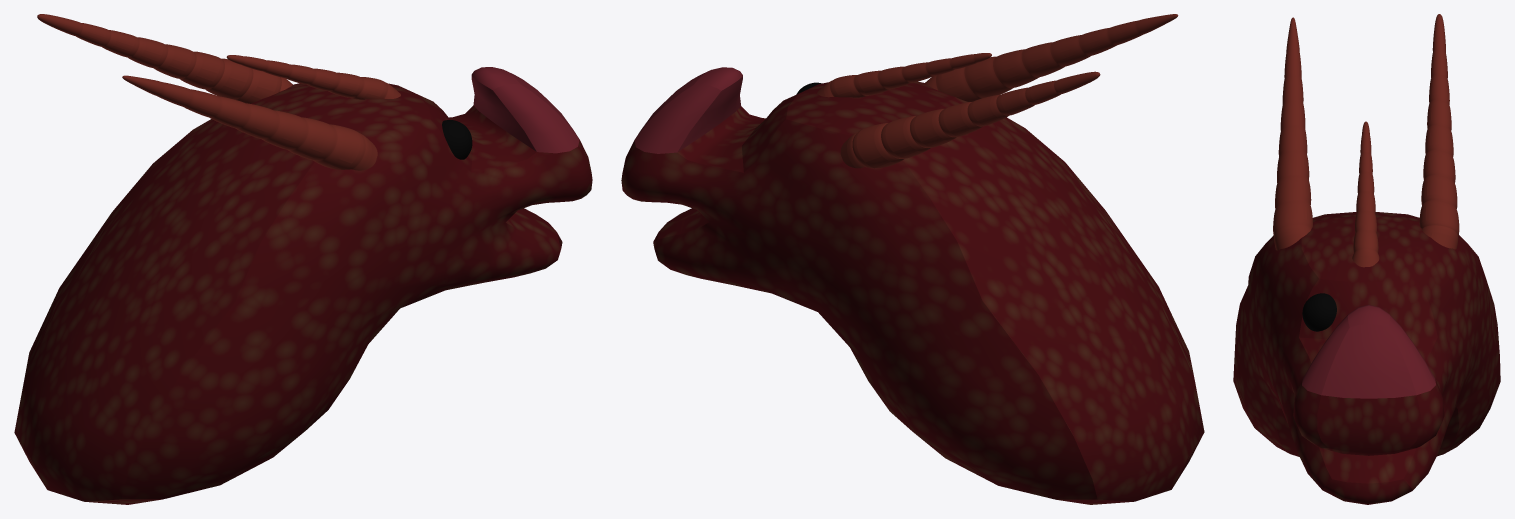
Rendered from ejderhead.fbx.
3 renders of one model, left to right at view 1: azimuth 30°, elevation 25°; view 2: azimuth 150°, elevation 25°; view 3: azimuth 270°, elevation 25°, orthographic. The views are drawn at different scales.
Parts seen in each view (by area): view 1: Cube.004; view 2: Cube.004; view 3: Cube.004.
Boxes of the visible parts, bbox=[...] form: Cube.004: bbox=[14, 14, 592, 504]; Cube.004: bbox=[621, 14, 1204, 504]; Cube.004: bbox=[1233, 14, 1500, 504].
Bounding box in the file's own units: 102 × 81.44 × 48.66.
Materials: 4 (1 with a texture image).
